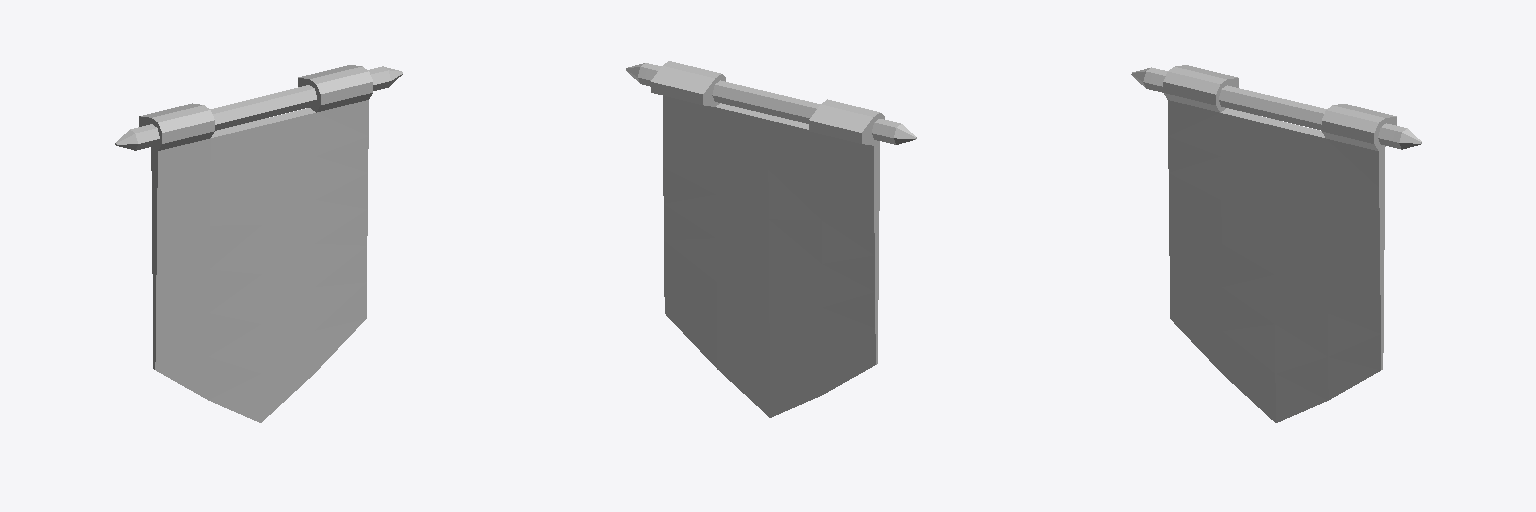
Rendered from ForestBanner.obj.
3 renders of one model, left to right at view 1: azimuth 30°, elevation 25°; view 2: azimuth 150°, elevation 25°; view 3: azimuth 330°, elevation 25°, orthographic.
Visible parts, largest first — view 1: ForestBanner; view 2: ForestBanner; view 3: ForestBanner.
Part boxes in pixels (x1,y1,x2,y2): ForestBanner: (115, 65, 402, 422); ForestBanner: (626, 61, 916, 417); ForestBanner: (1131, 65, 1421, 422).
Size of the model in its own units: 175 by 190 by 24.17.